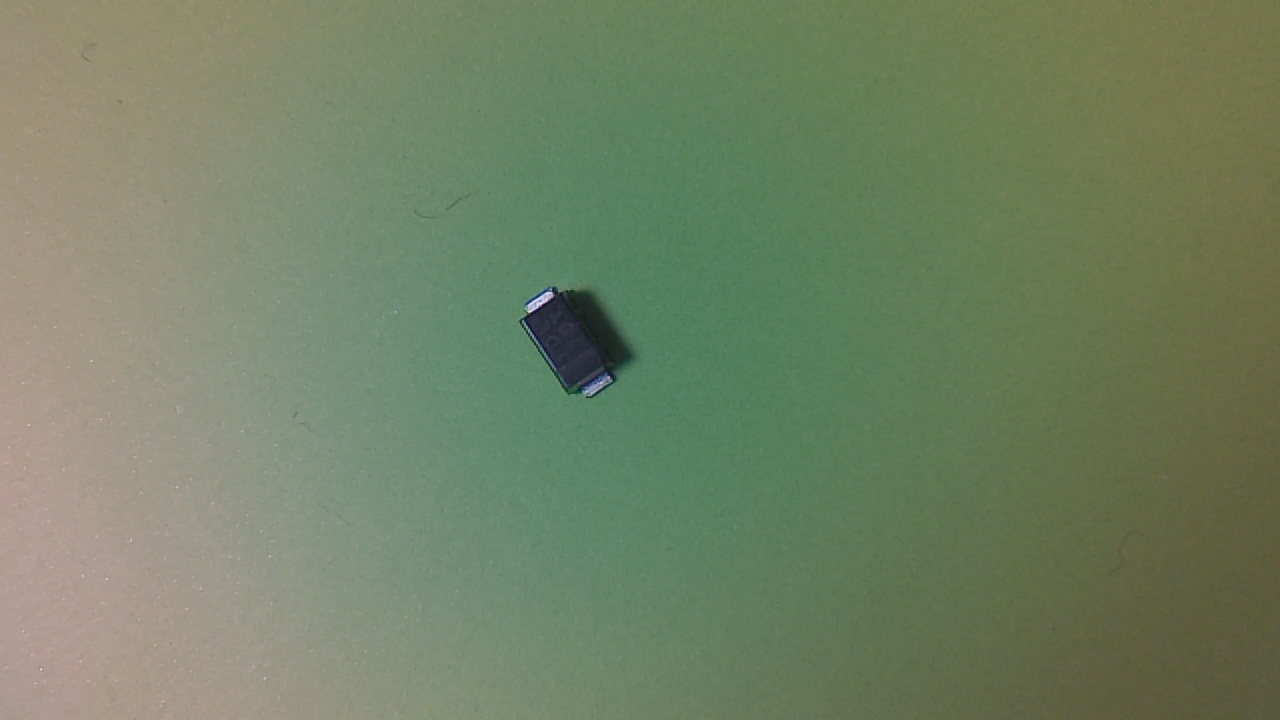Diode: (521, 295, 621, 408)
